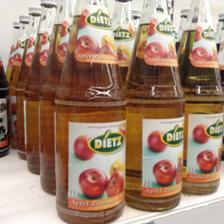Saft: (54, 0, 126, 224), (125, 0, 185, 210), (176, 0, 222, 196)
